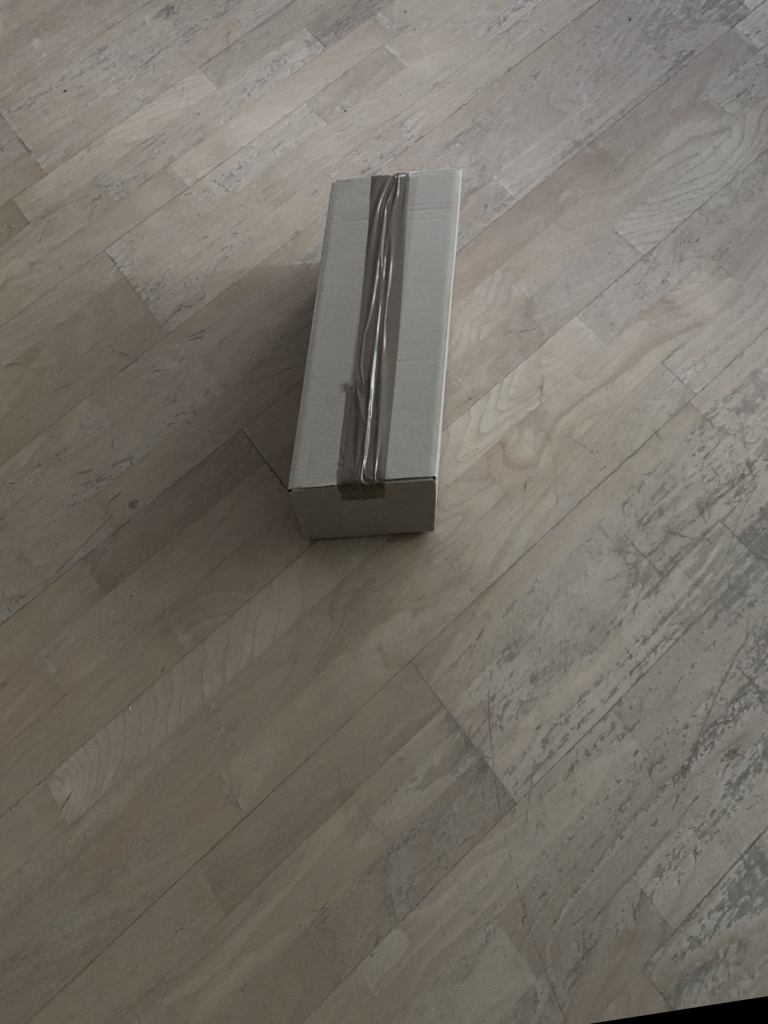good-parcel: (258, 141, 489, 544)
